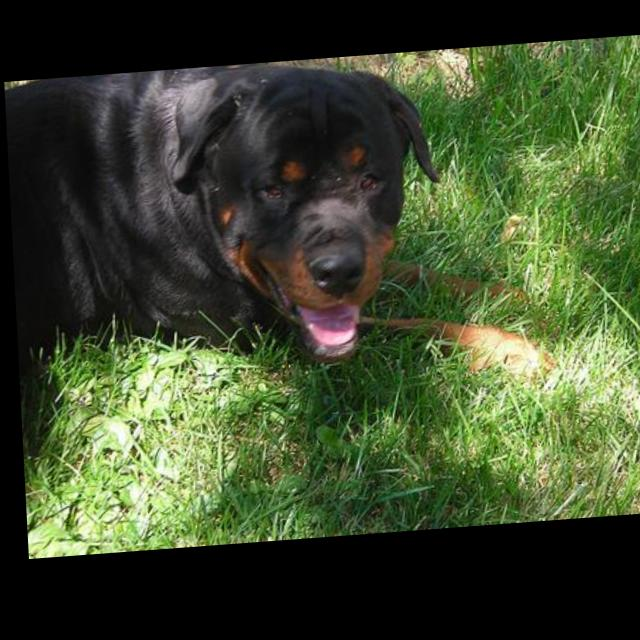rottweiler: (4, 51, 554, 422)
